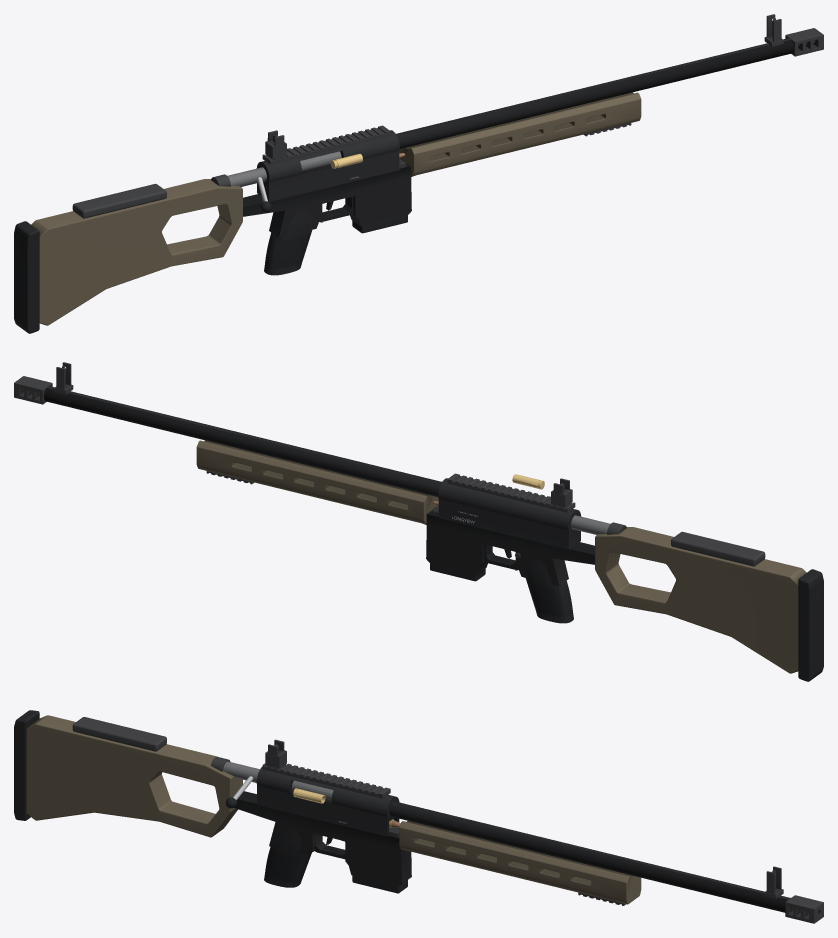
Rendered from longview.glb.
3 renders of one model, top to bottom at view 1: azimuth 30°, elevation 25°; view 2: azimuth 150°, elevation 25°; view 3: azimuth 330°, elevation 25°, orthographic.
Visible parts, largest first — view 1: LNG_stock, LNG_lower, LNG_barrel, LNG_fore, LNG_body, LNG_butt, LNG_cheek, LNG_rail, LNG_bolt; view 2: LNG_stock, LNG_lower, LNG_barrel, LNG_fore, LNG_body, LNG_butt, LNG_cheek, LNG_rail, LNG_bolt; view 3: LNG_stock, LNG_barrel, LNG_lower, LNG_fore, LNG_body, LNG_cheek, LNG_butt, LNG_rail, LNG_bolt, LNG_mag, LNG_rear, LNG_front.
Part boxes in pixels (left/top/right/bottom): LNG_stock: left=31, top=179, right=242, bottom=325; LNG_lower: left=243, top=159, right=414, bottom=275; LNG_barrel: left=396, top=28, right=823, bottom=148; LNG_fore: left=399, top=92, right=641, bottom=175; LNG_body: left=256, top=130, right=399, bottom=201; LNG_butt: left=14, top=221, right=39, bottom=333; LNG_cheek: left=72, top=183, right=166, bottom=218; LNG_rail: left=262, top=125, right=390, bottom=164; LNG_bolt: left=211, top=151, right=341, bottom=212; LNG_stock: left=595, top=527, right=806, bottom=673; LNG_lower: left=423, top=507, right=594, bottom=623; LNG_barrel: left=14, top=376, right=441, bottom=496; LNG_fore: left=196, top=440, right=438, bottom=523; LNG_body: left=438, top=478, right=581, bottom=549; LNG_butt: left=798, top=569, right=823, bottom=681; LNG_cheek: left=671, top=531, right=765, bottom=566; LNG_rail: left=447, top=473, right=575, bottom=512; LNG_bolt: left=571, top=515, right=626, bottom=534; LNG_stock: left=26, top=715, right=242, bottom=837; LNG_barrel: left=389, top=801, right=823, bottom=923; LNG_lower: left=234, top=791, right=411, bottom=887; LNG_fore: left=399, top=821, right=641, bottom=904; LNG_body: left=256, top=766, right=399, bottom=836; LNG_cheek: left=72, top=717, right=166, bottom=751; LNG_butt: left=14, top=710, right=39, bottom=820; LNG_rail: left=262, top=763, right=390, bottom=798; LNG_bolt: left=211, top=756, right=333, bottom=808; LNG_mag: left=352, top=827, right=407, bottom=893; LNG_rear: left=265, top=739, right=286, bottom=768; LNG_front: left=764, top=866, right=783, bottom=898.
Size of the model in its own units: 1.23 by 0.2005 by 0.0762.
